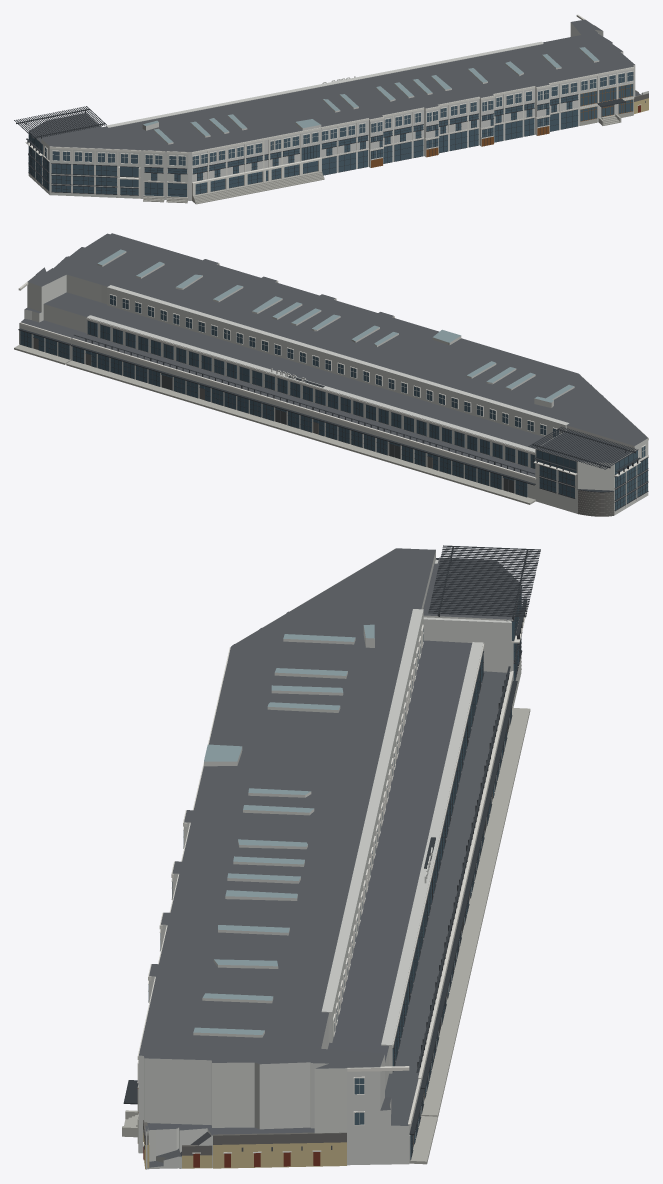
File: loods-6.glb
The picture shows the model from 3 angles, top to bottom: view 1: azimuth 30°, elevation 25°; view 2: azimuth 150°, elevation 25°; view 3: azimuth 270°, elevation 25°; orthographic projection. The views are drawn at different scales.
Visible parts, largest first — view 1: loods-6; view 2: loods-6; view 3: loods-6.
Part boxes in pixels (x1,y1,x2,y2): loods-6: (14,14,648,204); loods-6: (14,233,648,516); loods-6: (122,545,540,1169).
Size of the model in its own units: 184 by 17.45 by 61.86.
